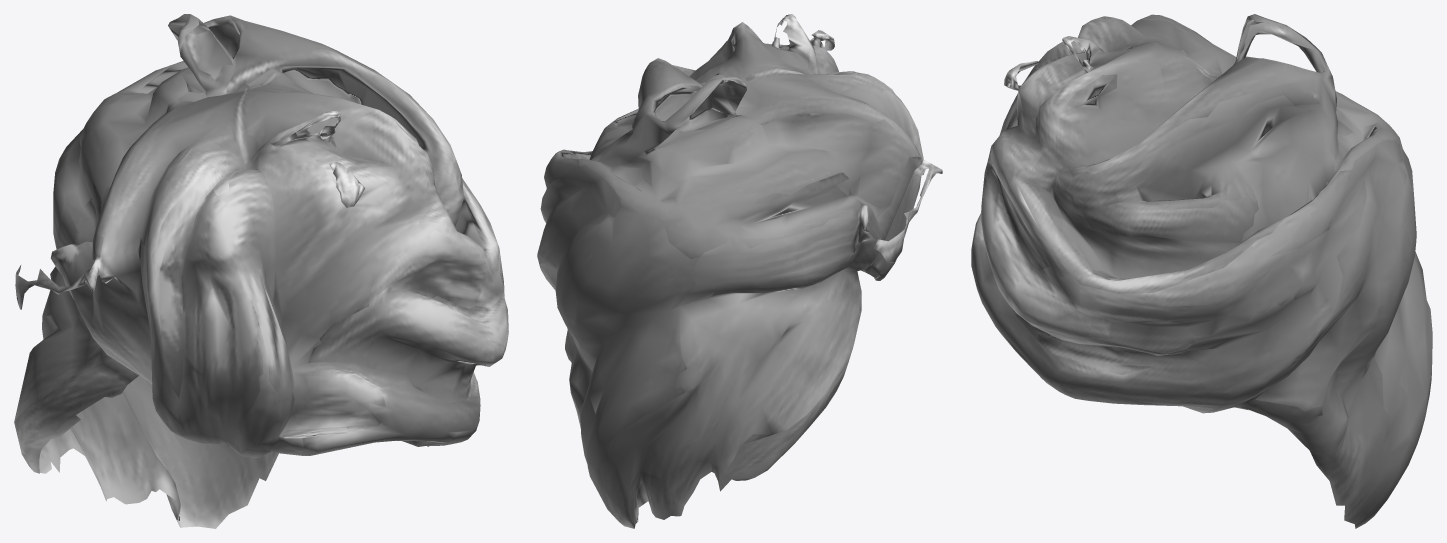
Rendered from bun-messy.glb.
3 renders of one model, left to right at view 1: azimuth 30°, elevation 25°; view 2: azimuth 150°, elevation 25°; view 3: azimuth 270°, elevation 25°, orthographic. The views are drawn at different scales.
Visible parts, largest first — view 1: bun-messy; view 2: bun-messy; view 3: bun-messy.
Part boxes in pixels (x1,y1,x2,y2): bun-messy: (14, 14, 508, 528); bun-messy: (537, 14, 942, 528); bun-messy: (971, 14, 1432, 528).
Size of the model in its own units: 0.2003 by 0.2424 by 0.2123.
1 material, 1 textured.
